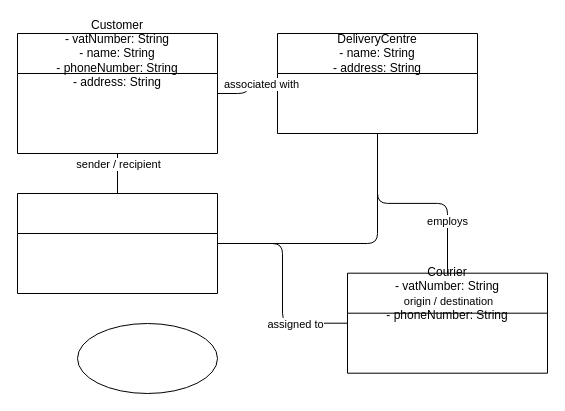
This 565x411 diagram has some shape labels left out. Here are the shapes that lost their labels. From the top down, the centre of each, then its label:
At (117,243): "Package - id: String - weight: Double - isUrgent: Boolean".
At (147,358): "Use Case".
